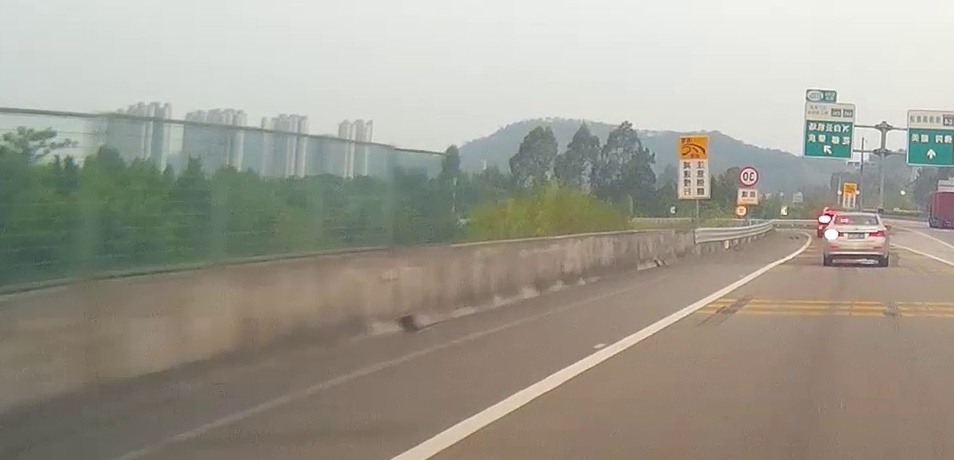L_light: (825, 230, 844, 238)
R_light: (869, 230, 886, 237)
T_light: (853, 215, 860, 217)
day-left: (824, 212, 889, 266)
